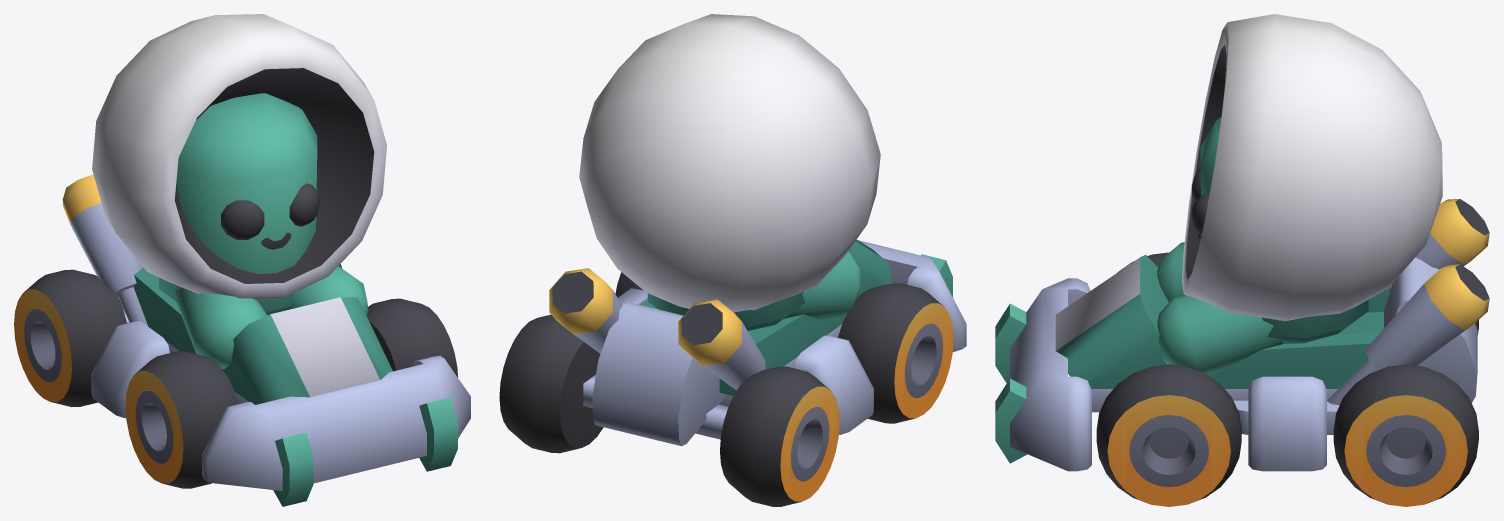
Rendered from kart_d.glb.
3 renders of one model, left to right at view 1: azimuth 30°, elevation 25°; view 2: azimuth 150°, elevation 25°; view 3: azimuth 270°, elevation 25°, orthographic. The views are drawn at different scales.
Parts seen in each view (by area): view 1: character, kart-oopi, wheel-back-right, wheel-front-right, wheel-front-left; view 2: character, kart-oopi, wheel-back-right, wheel-front-right, wheel-back-left; view 3: character, kart-oopi, wheel-front-left, wheel-back-left.
Part boxes in pixels (x1,y1,x2,y2): character: [92, 14, 386, 368]; kart-oopi: [62, 174, 470, 506]; wheel-back-right: [14, 269, 126, 406]; wheel-front-right: [125, 351, 238, 488]; wheel-front-left: [366, 298, 457, 377]; character: [579, 14, 880, 330]; kart-oopi: [549, 239, 966, 446]; wheel-back-right: [720, 366, 839, 506]; wheel-front-right: [838, 283, 953, 423]; wheel-back-left: [499, 314, 603, 453]; character: [1157, 14, 1442, 375]; kart-oopi: [995, 199, 1489, 471]; wheel-front-left: [1096, 364, 1241, 506]; wheel-back-left: [1333, 364, 1478, 506].
Bounding box in the file's own units: 0.9743 × 1.33 × 1.43.
1 material, 1 textured.
